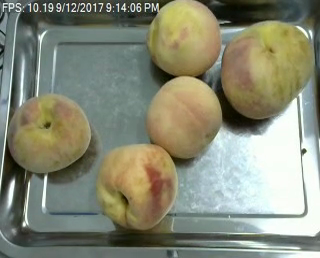Peach: (219, 20, 314, 121), (95, 142, 179, 231), (7, 92, 92, 173), (146, 78, 224, 160), (148, 1, 222, 78)
